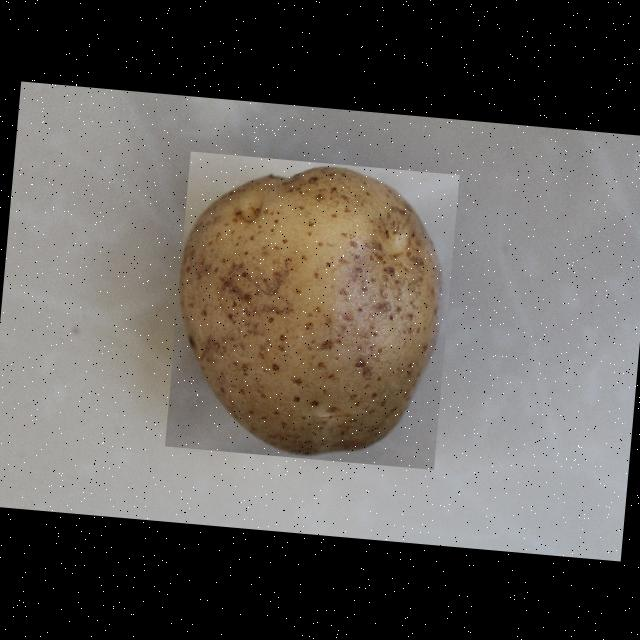Diseased-fungal potato: (164, 150, 458, 468)
